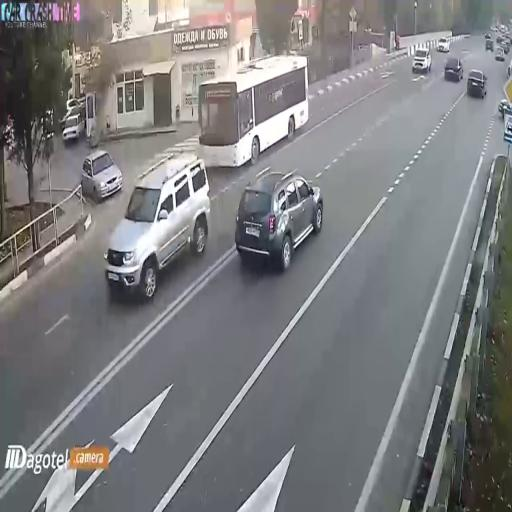小汽车: (112, 160, 210, 306), (194, 59, 308, 166), (236, 172, 324, 258), (76, 143, 120, 200), (441, 53, 467, 84), (60, 114, 84, 145), (408, 44, 432, 74), (468, 65, 488, 101), (436, 31, 449, 54), (493, 42, 505, 65)
